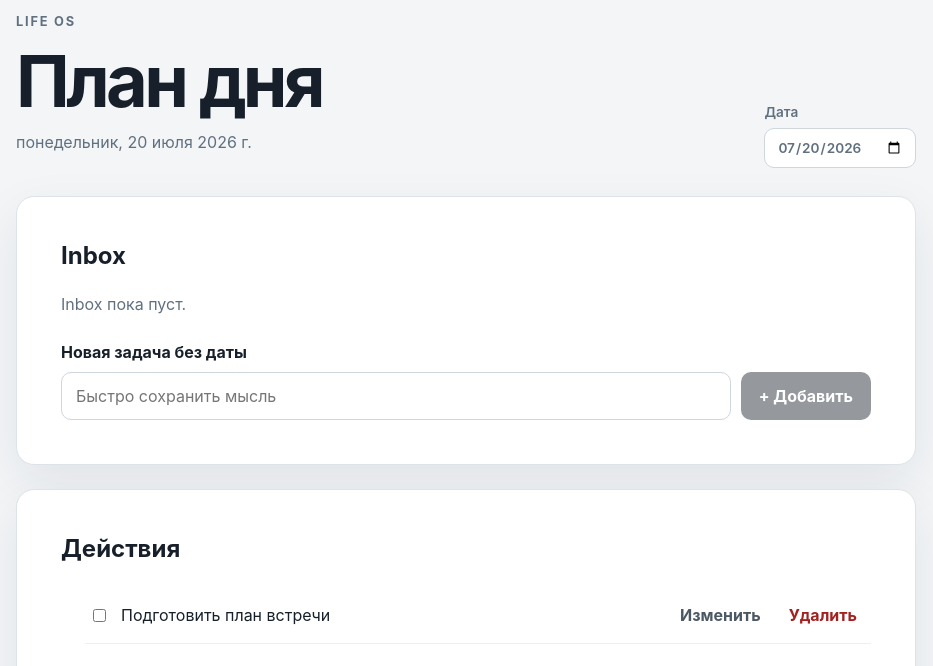
Test: App › completes, renames and deletes an action
The image size is (933, 666).
Expected: the text "Подготовить план встречи" is shown, [121, 605, 330, 625]
Click the checkbox named "Отметить «Подготовить план встречи» выполненным". click: point(100, 615)
box: [93, 608, 106, 622]
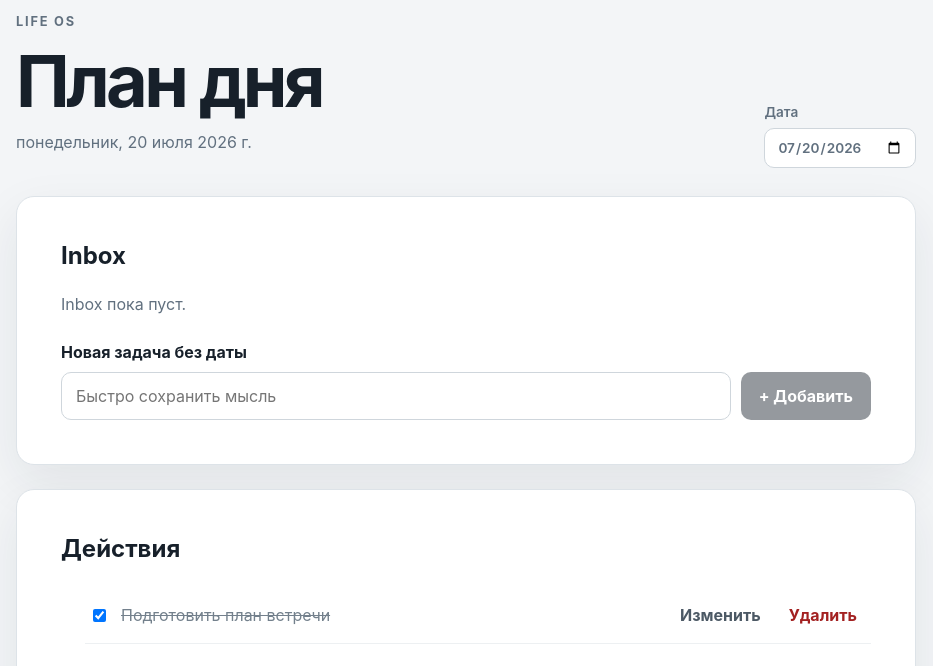
Expected: the checkbox named "Вернуть «Подготовить план встречи» в работу" is checked, [93, 608, 106, 622]
Click the button with aria-label "Редактировать «Подготовить план встречи»". click: point(720, 615)
box: [670, 597, 771, 633]
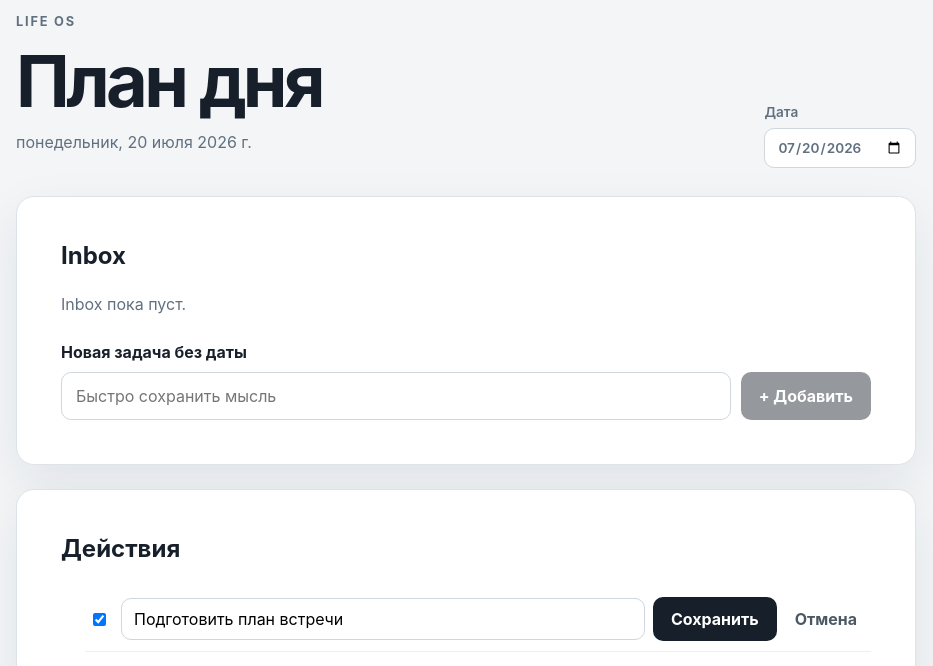
Replace the text in the field named "Название действия" with "Обновлённое действие". click: point(383, 619)
box: [121, 598, 645, 640]
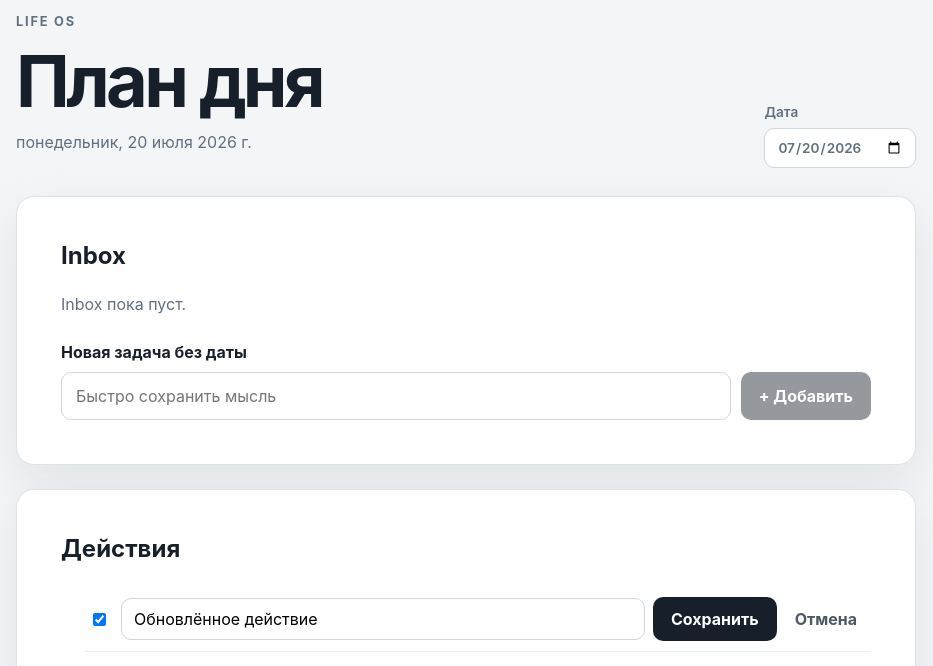
Click the button "Сохранить". click: point(715, 619)
box: [653, 597, 777, 641]
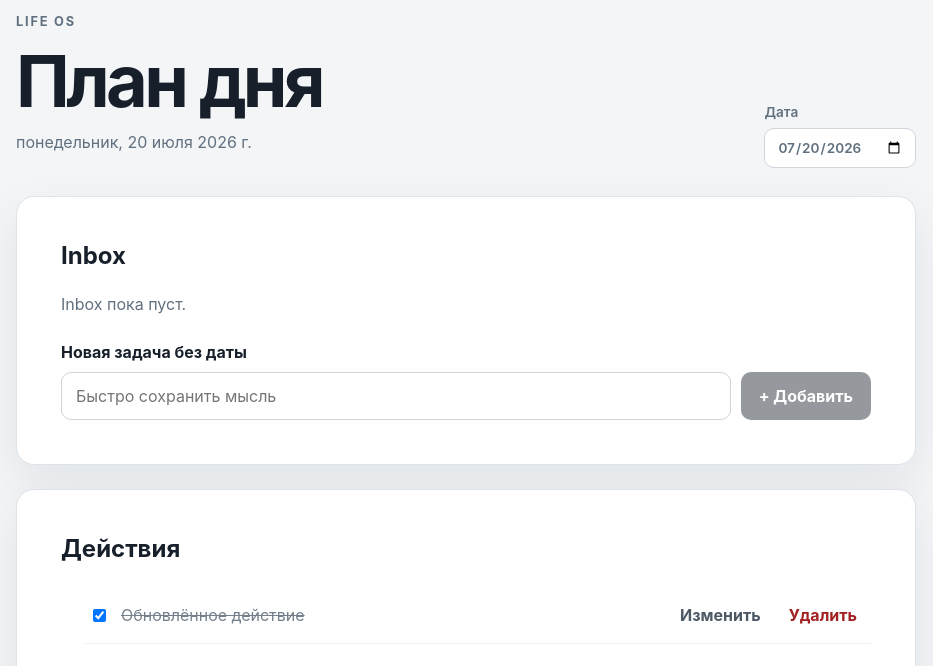
Expected: the text "Обновлённое действие" is shown, [121, 605, 305, 625]
Click the button with aria-label "Удалить «Обновлённое действие»". click: point(823, 615)
box: [779, 597, 867, 633]
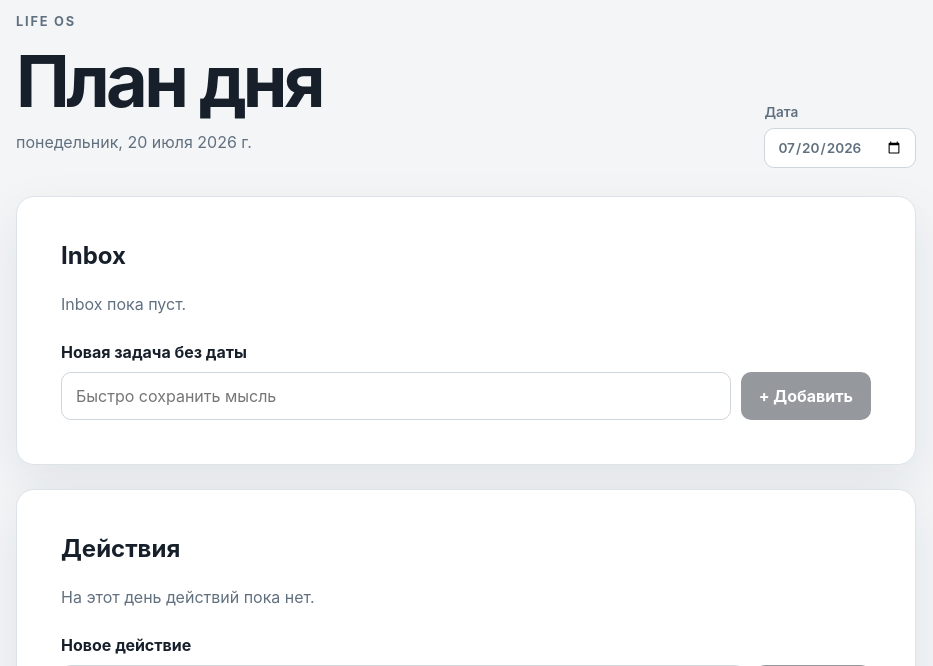
Expected: the text "Обновлённое действие" is gone
